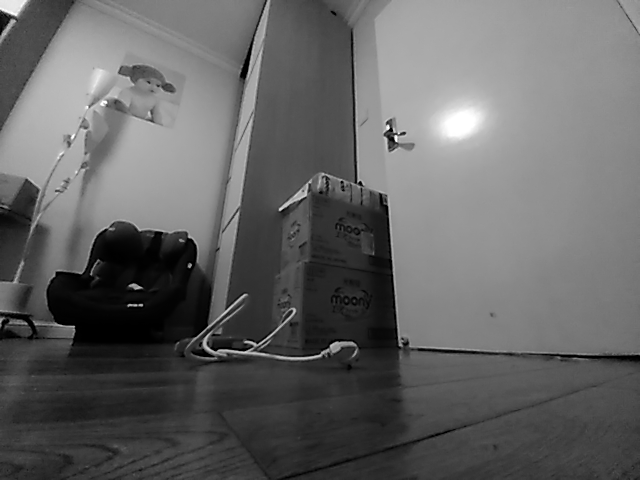wire: (173, 292, 360, 366)
